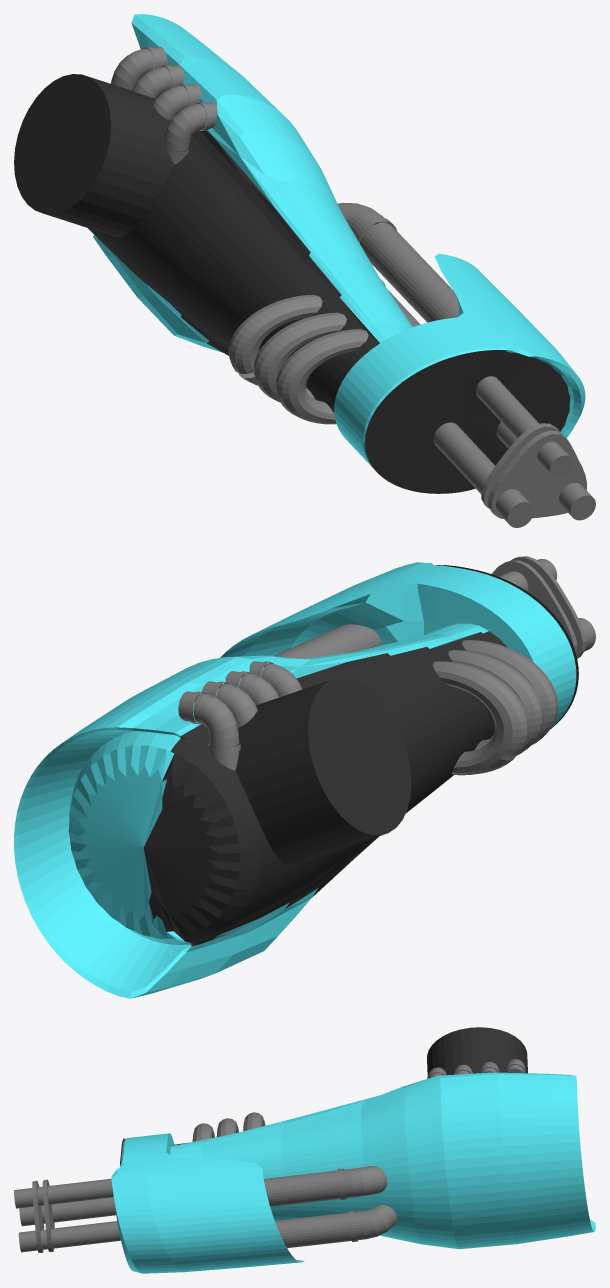
Rendered from MissileShip_Arms_LowerR.fbx.
The picture shows the model from 3 angles, top to bottom: view 1: azimuth 30°, elevation 25°; view 2: azimuth 150°, elevation 25°; view 3: azimuth 270°, elevation 25°; orthographic projection. The views are drawn at different scales.
Visible parts, largest first — view 1: Cylinder.031, Cylinder.010, Cylinder.028, Cylinder.030, Cylinder.000, Cylinder.029, Cylinder.024, Cylinder.027; view 2: Cylinder.010, Cylinder.031, Cylinder.028, Cylinder.000, Cylinder.027, Cylinder.024, Cylinder.029, Cylinder.030; view 3: Cylinder.010, Cylinder.000, Cylinder.024, Cylinder.029, Cylinder.028, Cylinder.027.
Part boxes in pixels (left/top/right/bottom): Cylinder.031: left=88, top=129, right=379, bottom=412; Cylinder.010: left=93, top=14, right=412, bottom=352; Cylinder.028: left=14, top=74, right=180, bottom=237; Cylinder.030: left=365, top=350, right=570, bottom=493; Cylinder.000: left=334, top=253, right=585, bottom=493; Cylinder.029: left=433, top=376, right=595, bottom=527; Cylinder.024: left=111, top=46, right=459, bottom=326; Cylinder.027: left=228, top=294, right=368, bottom=424; Cylinder.010: left=14, top=623, right=488, bottom=998; Cylinder.031: left=143, top=631, right=507, bottom=946; Cylinder.028: left=226, top=677, right=411, bottom=865; Cylinder.000: left=220, top=562, right=578, bottom=727; Cylinder.027: left=432, top=640, right=558, bottom=775; Cylinder.024: left=178, top=624, right=381, bottom=770; Cylinder.029: left=492, top=556, right=595, bottom=658; Cylinder.030: left=435, top=565, right=578, bottom=729; Cylinder.010: left=170, top=1072, right=595, bottom=1249; Cylinder.000: left=111, top=1133, right=304, bottom=1273; Cylinder.024: left=263, top=1059, right=526, bottom=1248; Cylinder.029: left=14, top=1178, right=120, bottom=1252; Cylinder.028: left=427, top=1027, right=527, bottom=1078; Cylinder.027: left=192, top=1112, right=265, bottom=1141.
Bounding box in the file's own units: 114 × 92.64 × 263.
